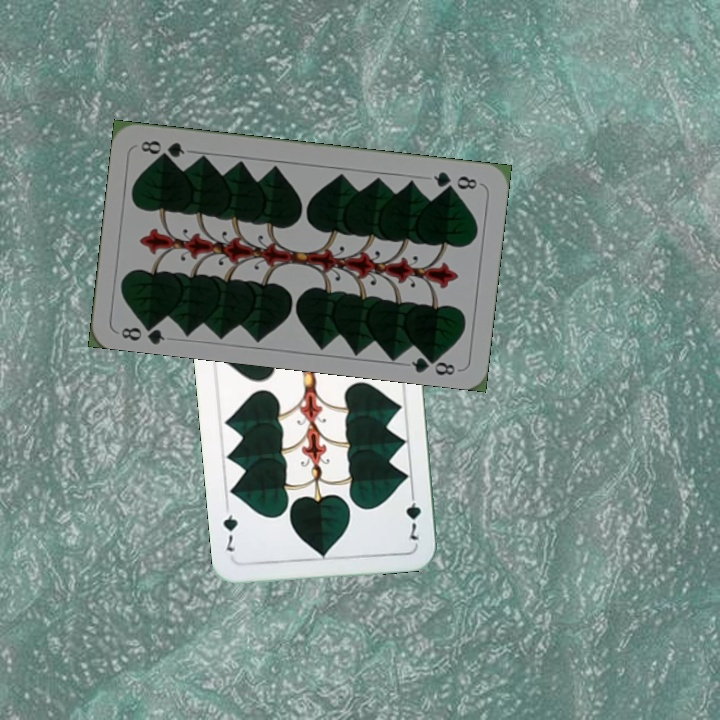G7: (402, 486, 424, 543)
G8: (117, 317, 167, 346), (429, 167, 480, 193)
